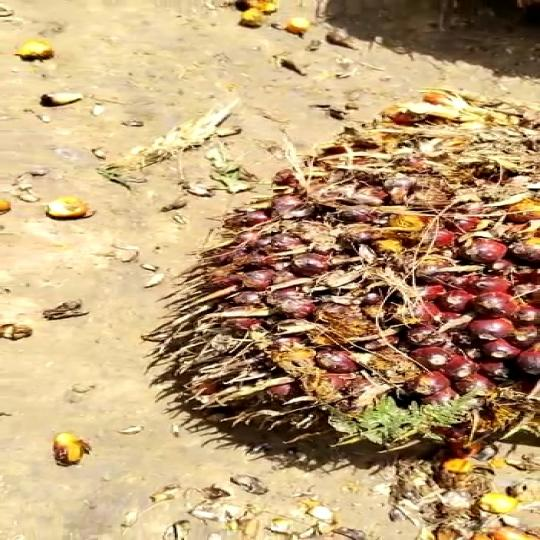masak: (154, 84, 540, 468)
